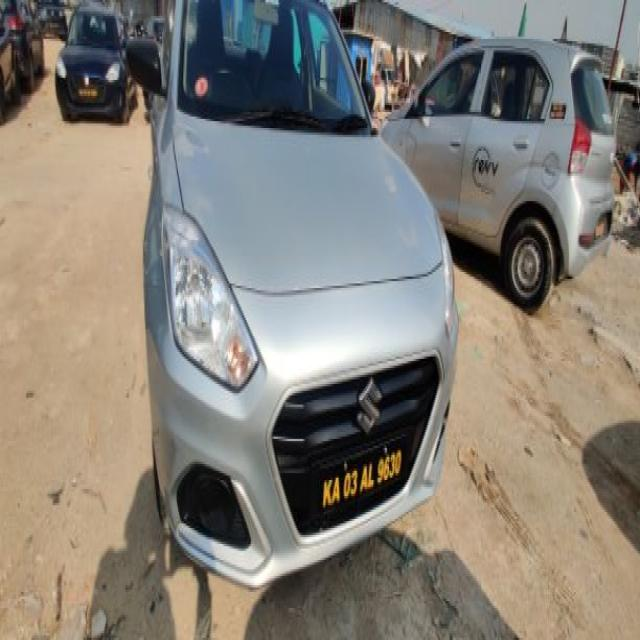license_plate: (306, 427, 411, 528)
